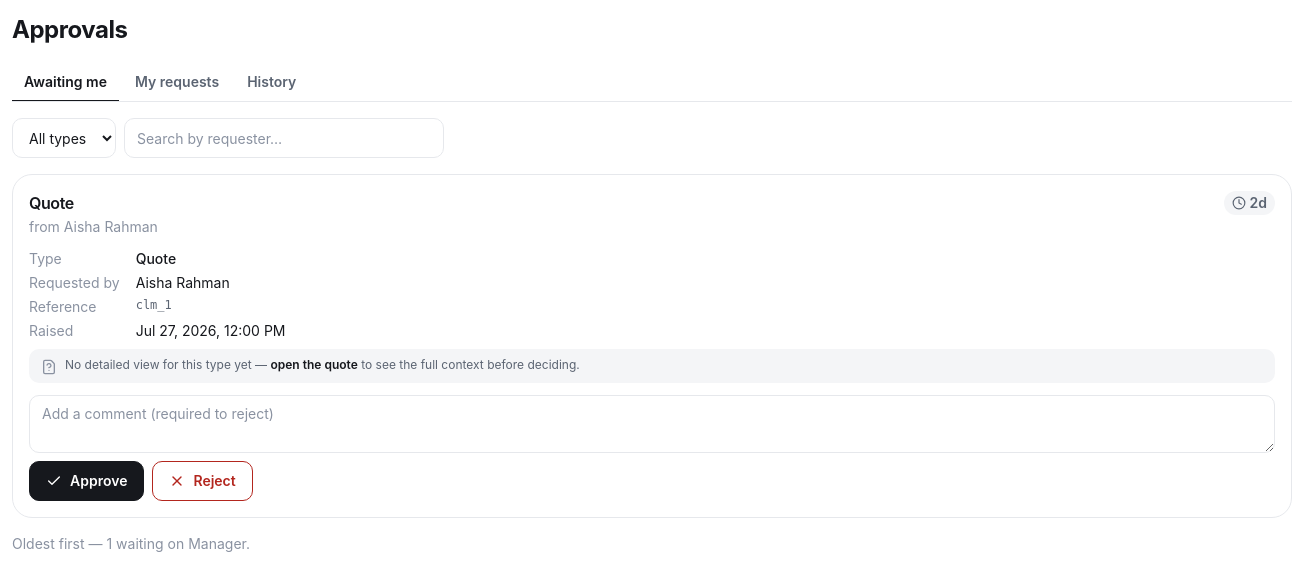
Test case: filters › distinguishes 'no matches' from 'nothing waiting'
Expected: the text "clm_1" is shown, 136,298 -> 172,312
Type "nobody by that name" into the search field named "Search by requester name". click: [284, 138]
box: 124,118 -> 444,158
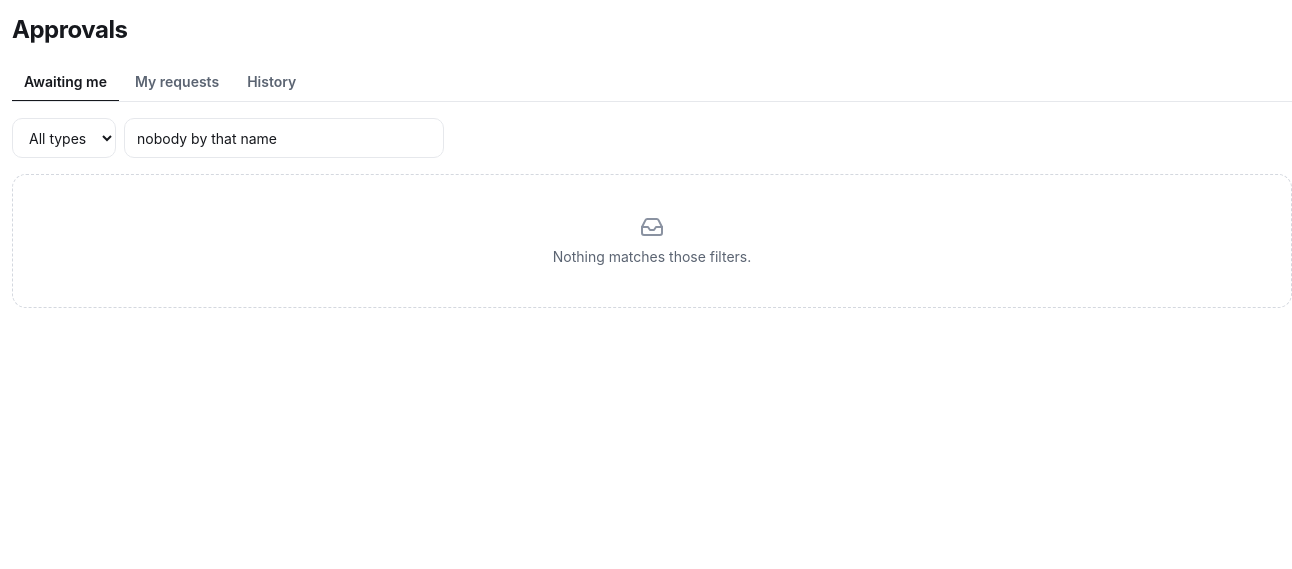
Expected: the text "Nothing matches those filters." is shown, 553,247 -> 751,267
